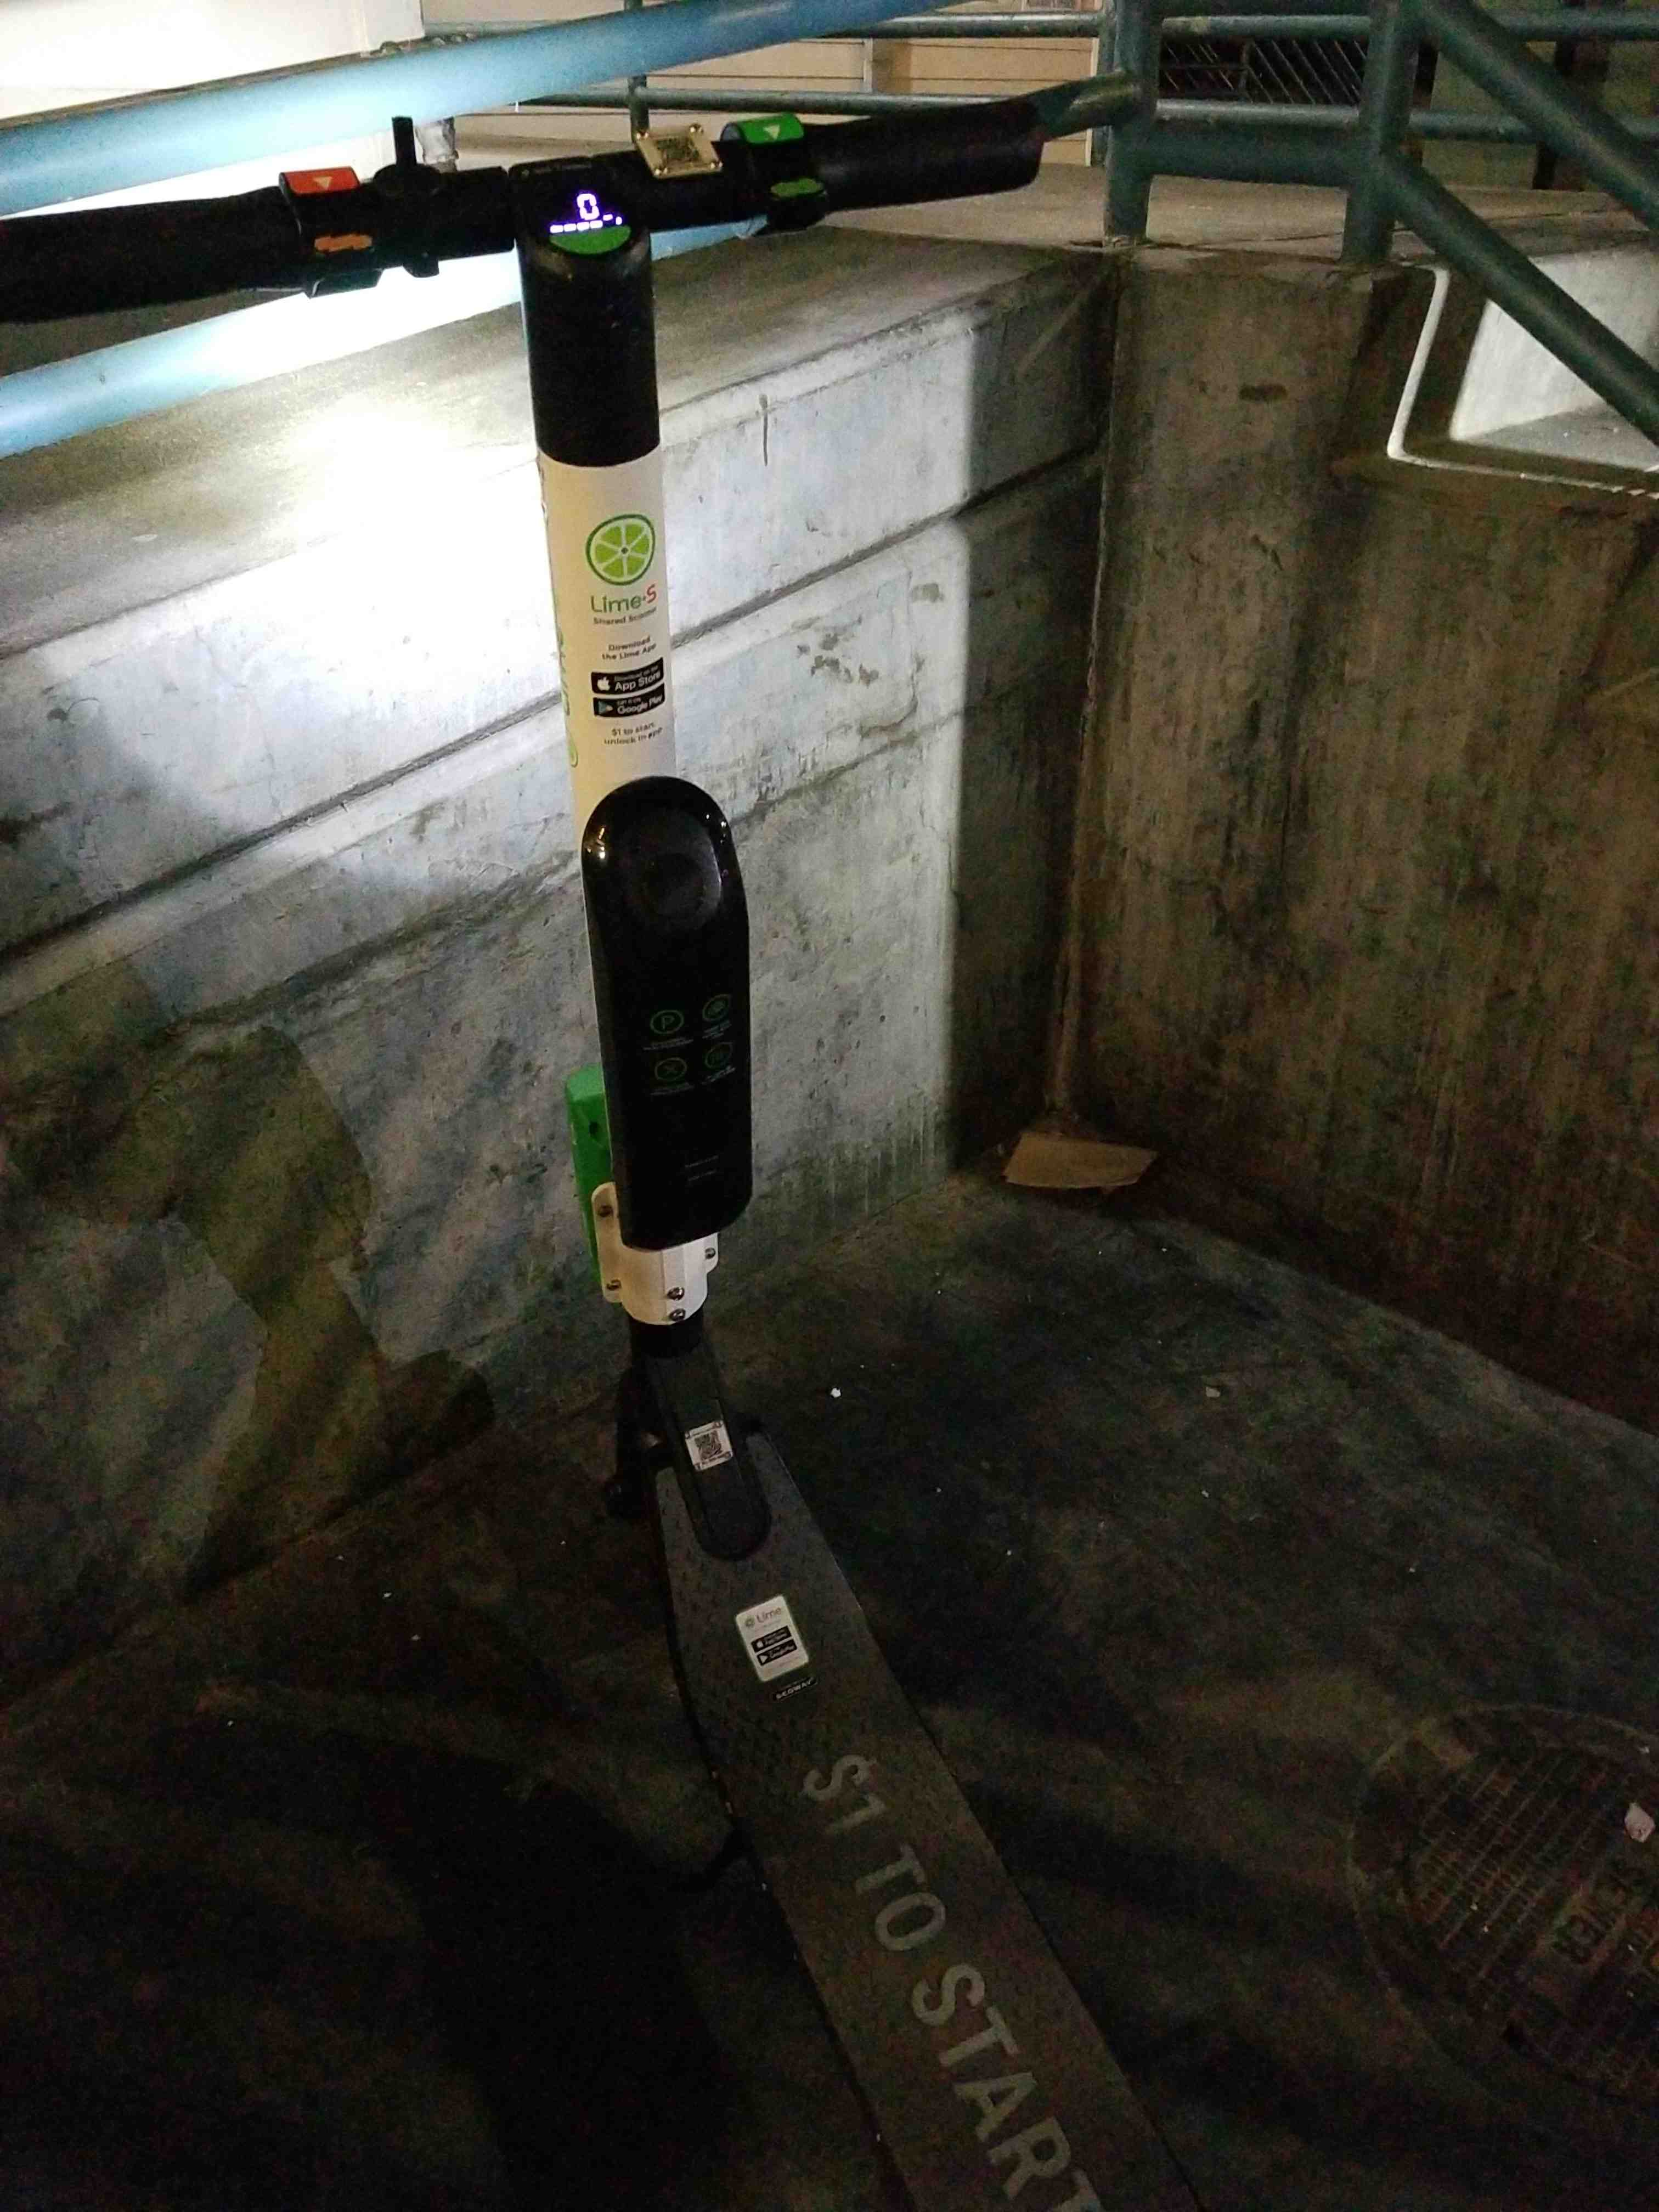scooter: (14, 160, 1330, 2212)
